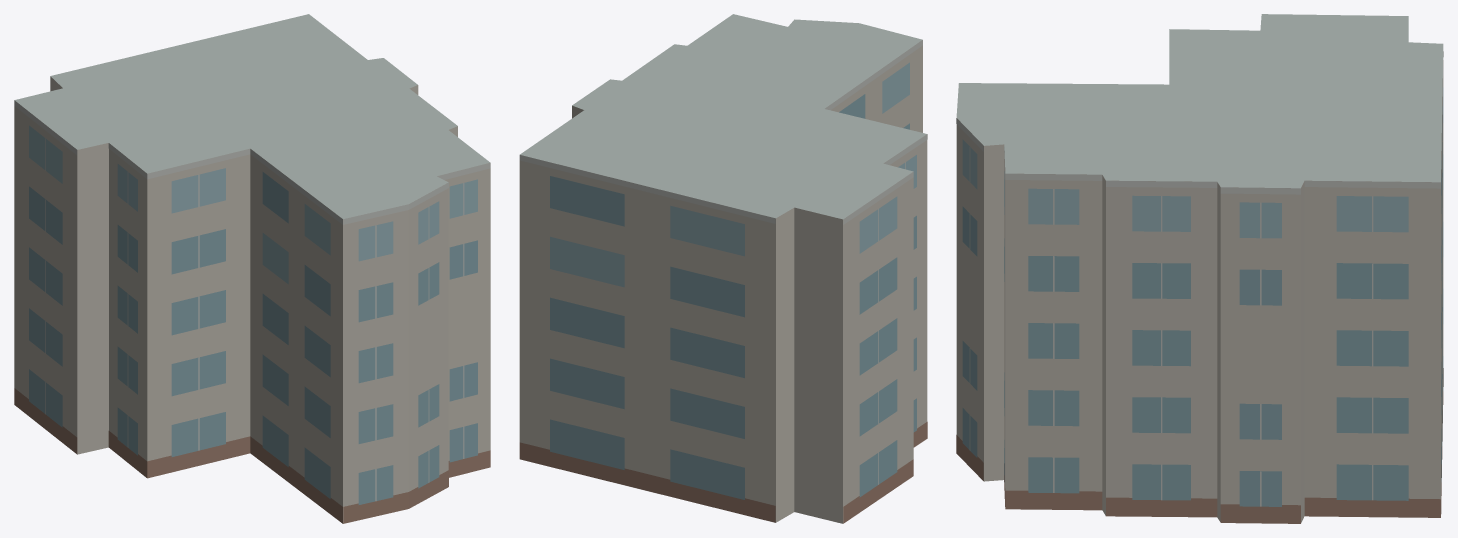
File: survey-upis-32941170.glb
3 renders of one model, left to right at view 1: azimuth 30°, elevation 25°; view 2: azimuth 150°, elevation 25°; view 3: azimuth 270°, elevation 25°, orthographic. The views are drawn at different scales.
Parts seen in each view (by area): view 1: survey-upis-32941170.tmp; view 2: survey-upis-32941170.tmp; view 3: survey-upis-32941170.tmp.
Boxes of the visible parts, bbox=[...] form: survey-upis-32941170.tmp: bbox=[14, 14, 490, 523]; survey-upis-32941170.tmp: bbox=[519, 14, 927, 523]; survey-upis-32941170.tmp: bbox=[956, 14, 1443, 523].
Bounding box in the file's own units: 14.48 × 13 × 17.11.
